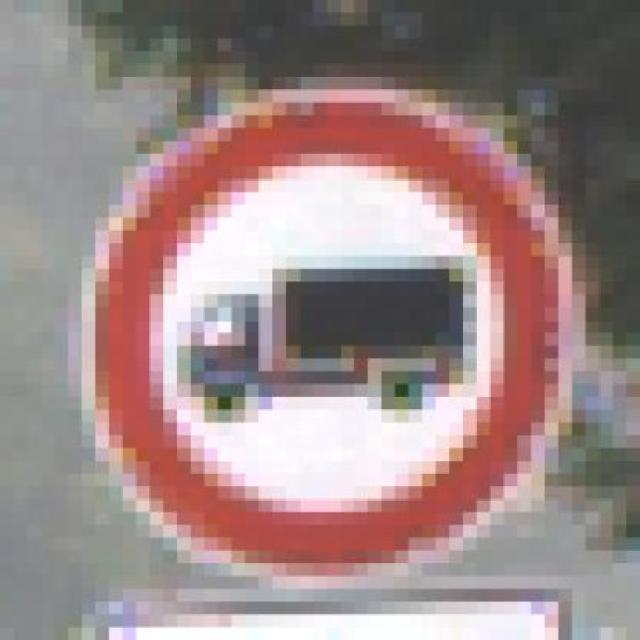Truck traffic is prohibited: (49, 54, 593, 606)
